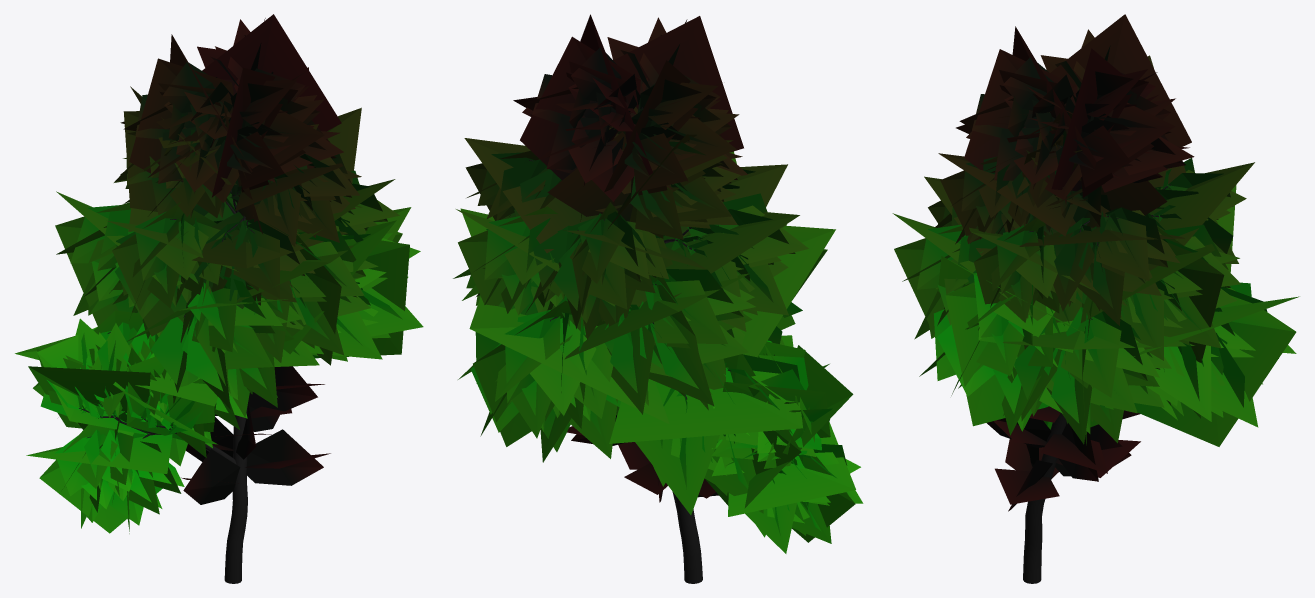
The model's file is birch_tree_9.FBX.
The picture shows the model from 3 angles, left to right: view 1: azimuth 30°, elevation 25°; view 2: azimuth 150°, elevation 25°; view 3: azimuth 270°, elevation 25°; orthographic projection. The views are drawn at different scales.
Parts seen in each view (by area): view 1: birch_leaves_lod_0, birch_leaves_shadow, birch_trunk_lod_0; view 2: birch_leaves_lod_0, birch_leaves_shadow, birch_trunk_lod_0; view 3: birch_leaves_lod_0, birch_leaves_shadow, birch_trunk_lod_0.
Boxes of the visible parts, bbox=[...] form: birch_leaves_lod_0: bbox=[36, 19, 423, 533]; birch_leaves_shadow: bbox=[15, 14, 411, 533]; birch_trunk_lod_0: bbox=[147, 408, 247, 583]; birch_leaves_lod_0: bbox=[453, 17, 863, 553]; birch_leaves_shadow: bbox=[456, 14, 855, 542]; birch_trunk_lod_0: bbox=[672, 491, 702, 583]; birch_leaves_lod_0: bbox=[902, 29, 1296, 511]; birch_leaves_shadow: bbox=[892, 14, 1299, 446]; birch_trunk_lod_0: bbox=[1023, 413, 1066, 583].
Size of what is drawn, in the model's own units: 7.67 by 10.31 by 6.73.
